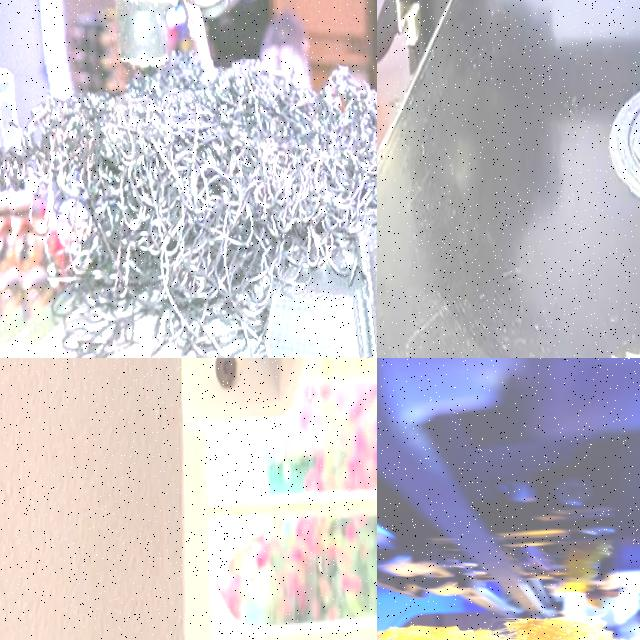spaghetti: (2, 57, 377, 358), (377, 607, 640, 640)
